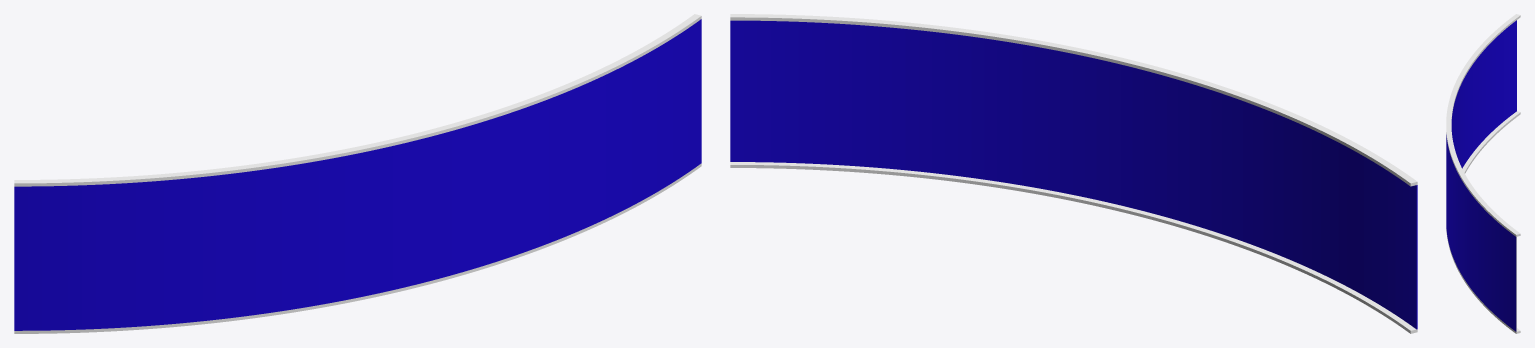
File: Ramp.fbx
3 renders of one model, left to right at view 1: azimuth 30°, elevation 25°; view 2: azimuth 150°, elevation 25°; view 3: azimuth 270°, elevation 25°, orthographic. The views are drawn at different scales.
Visible parts, largest first — view 1: Cube; view 2: Cube; view 3: Cube.
Part boxes in pixels (<box>): Cube: <box>14,14,701,333</box>; Cube: <box>730,14,1417,333</box>; Cube: <box>1446,14,1520,333</box>.
Bounding box in the file's own units: 11469 × 2400 × 1638.
